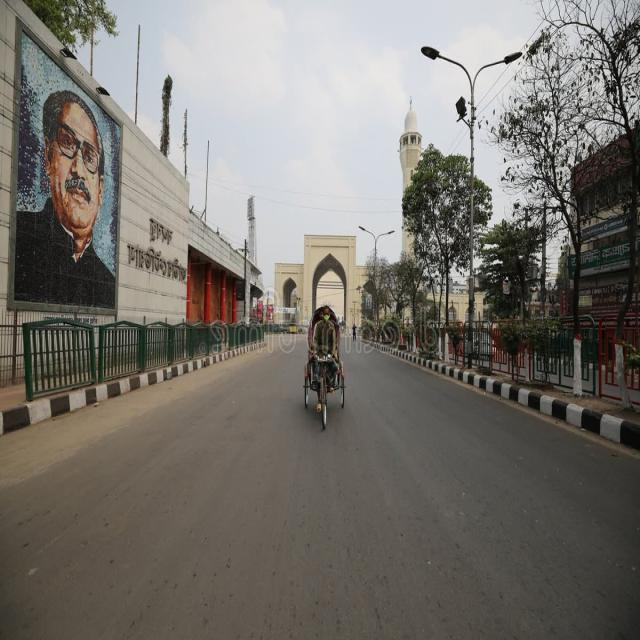Rickshaw: (287, 293, 362, 449)
